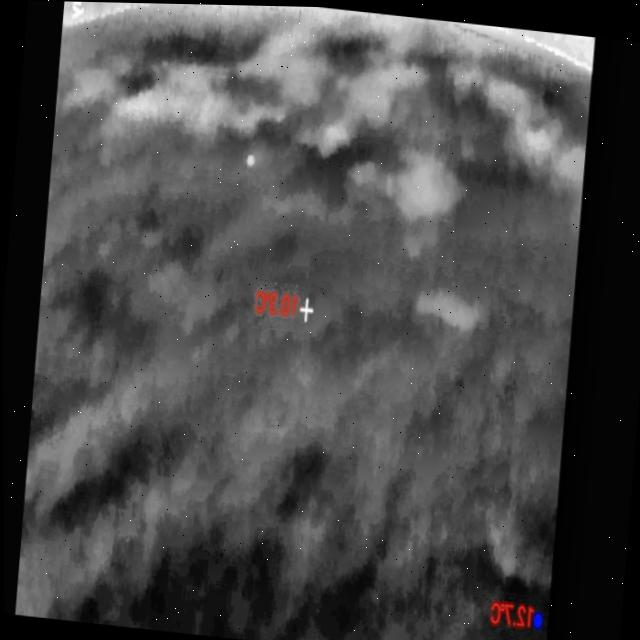drone: (245, 152, 252, 166)
